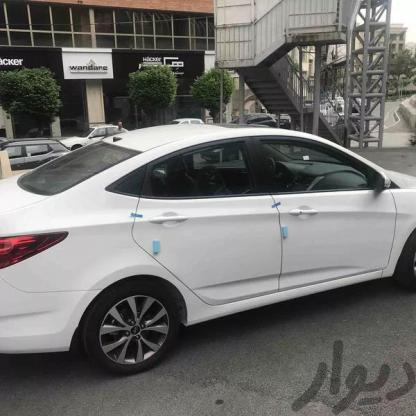Car: (0, 125, 406, 338), (54, 104, 126, 166)
